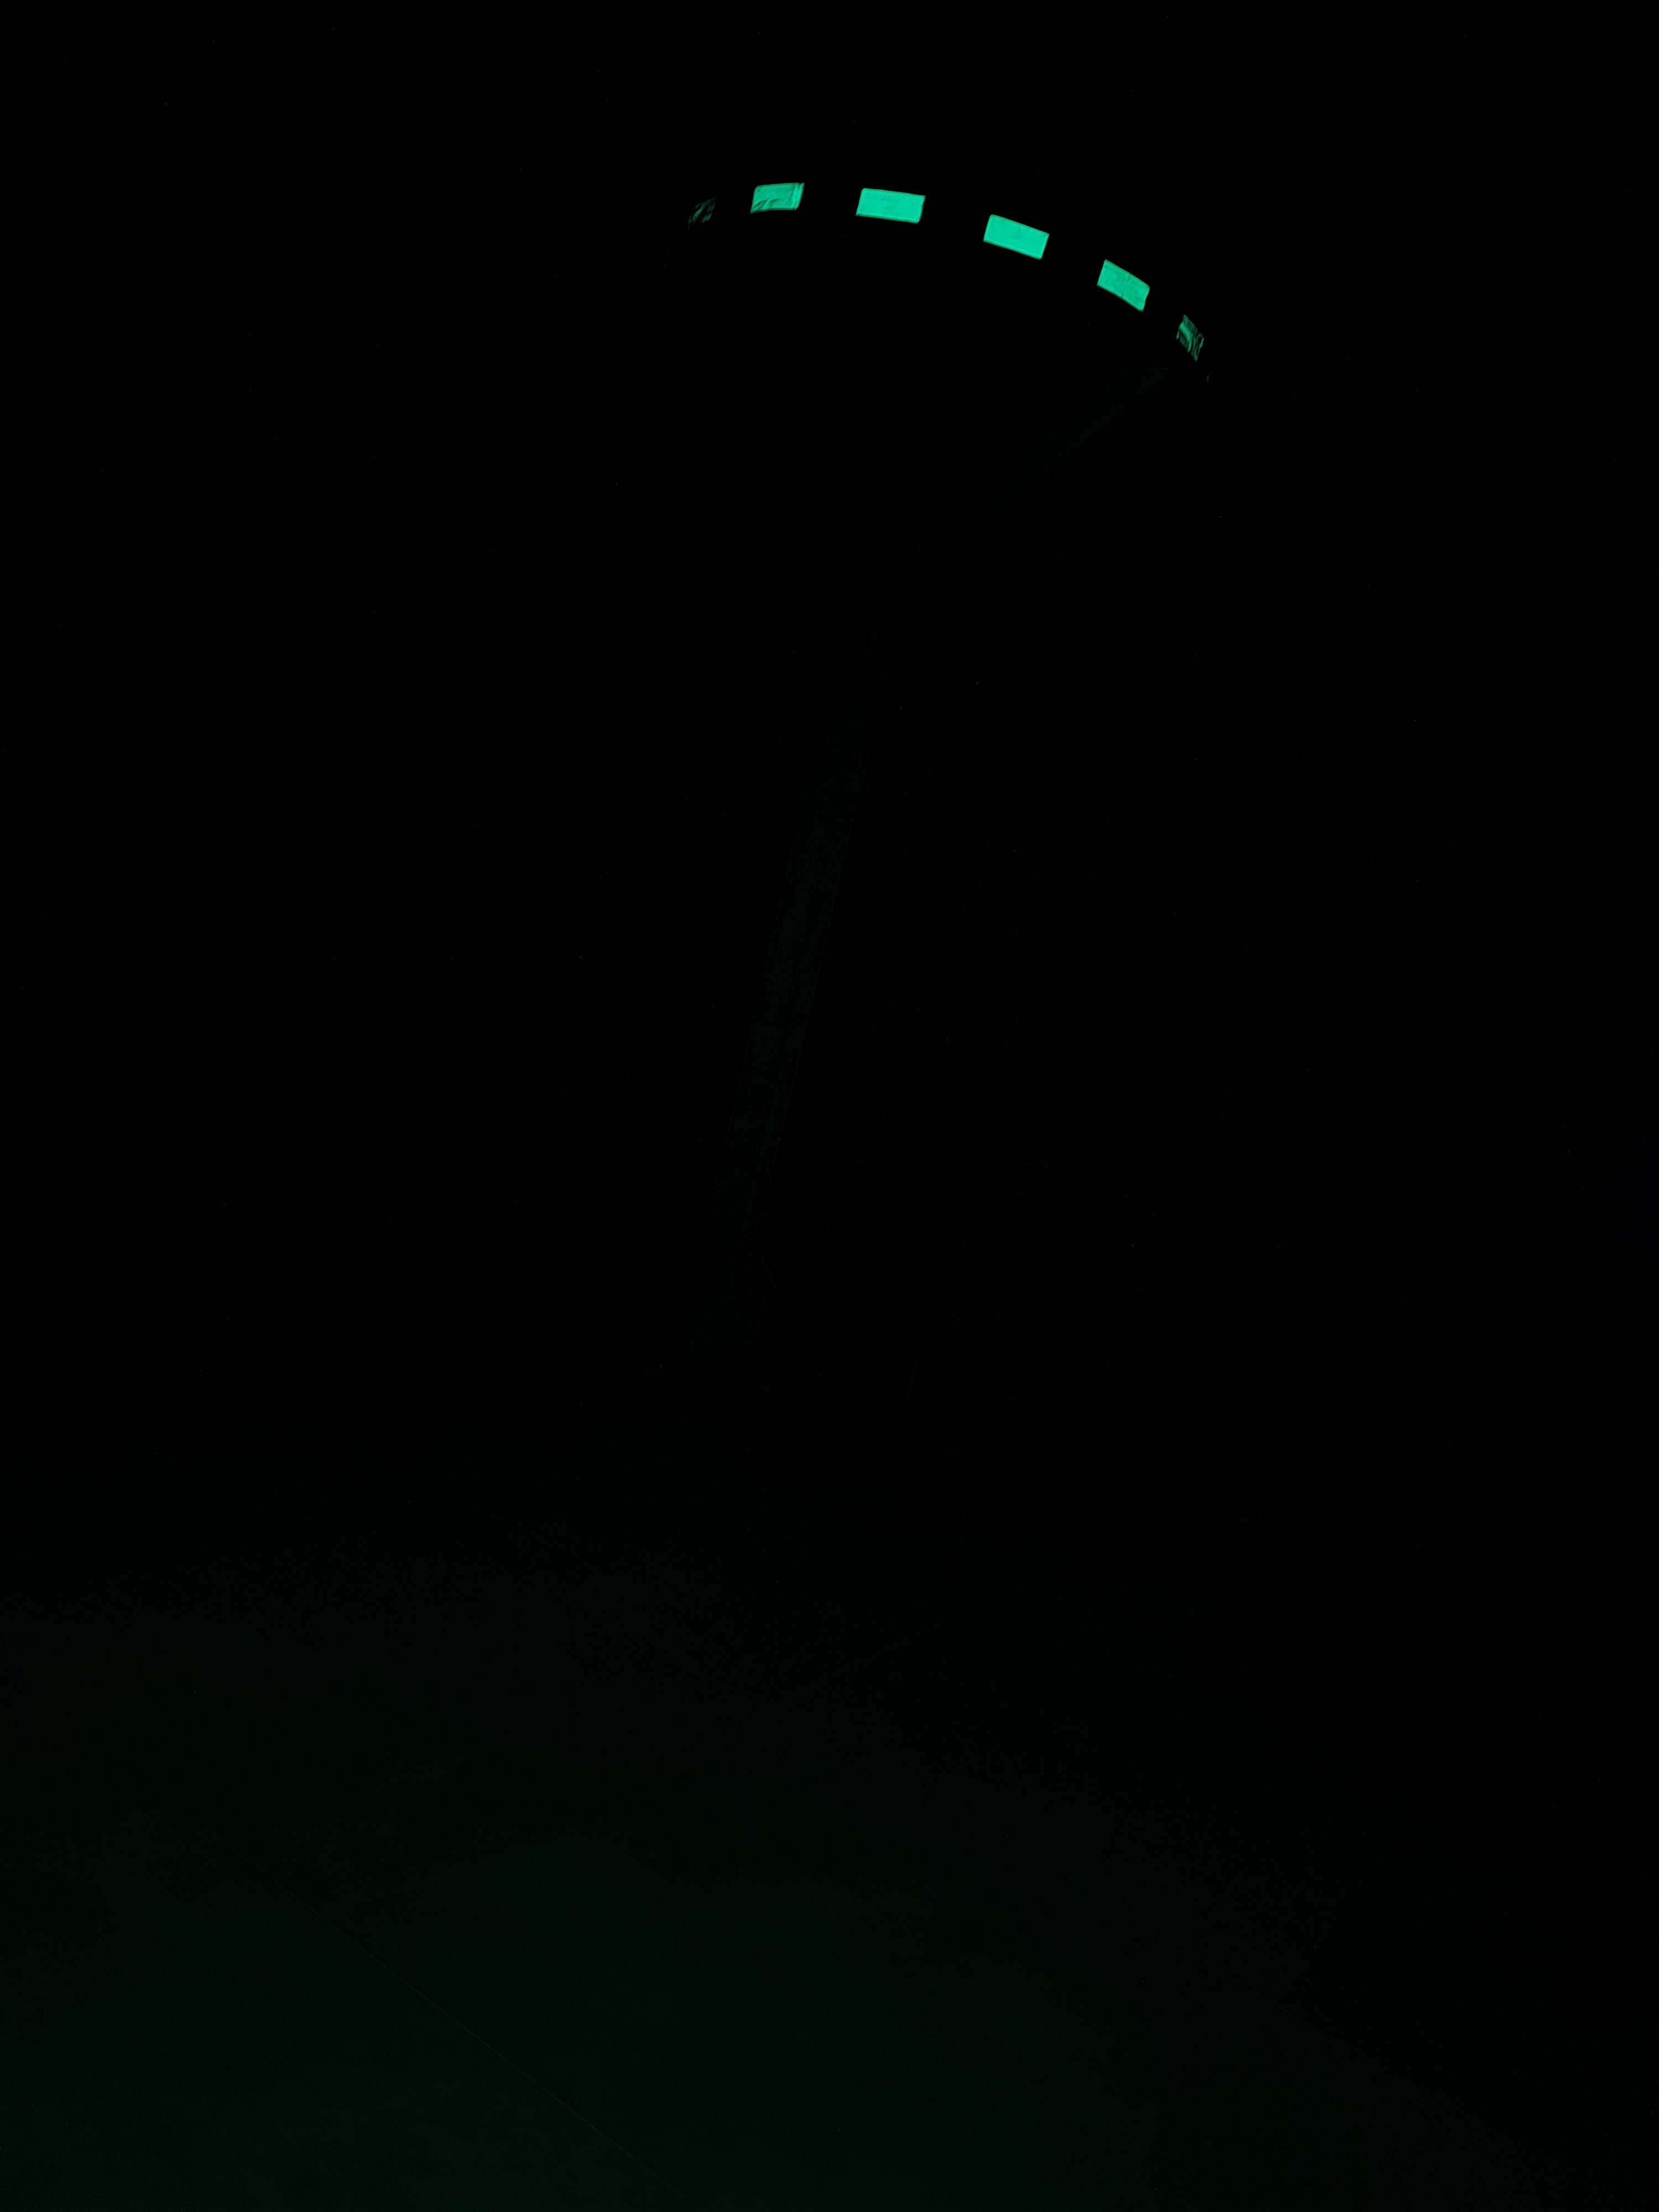hoop: (685, 185, 1211, 371)
